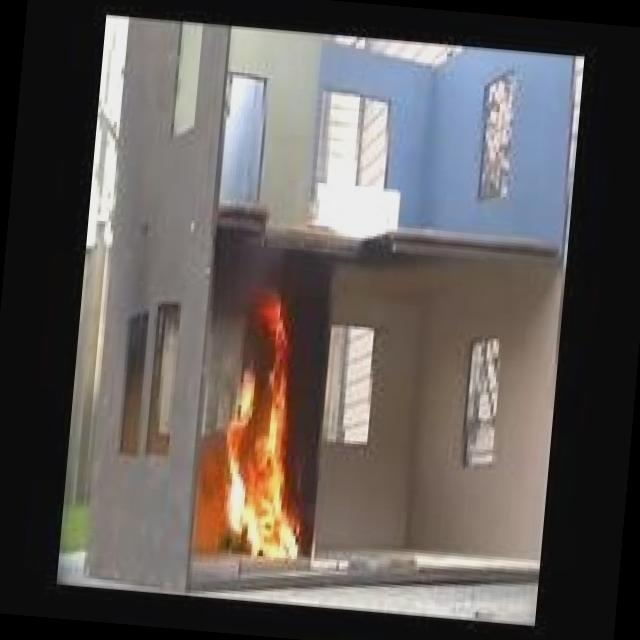fire: (201, 276, 334, 582)
